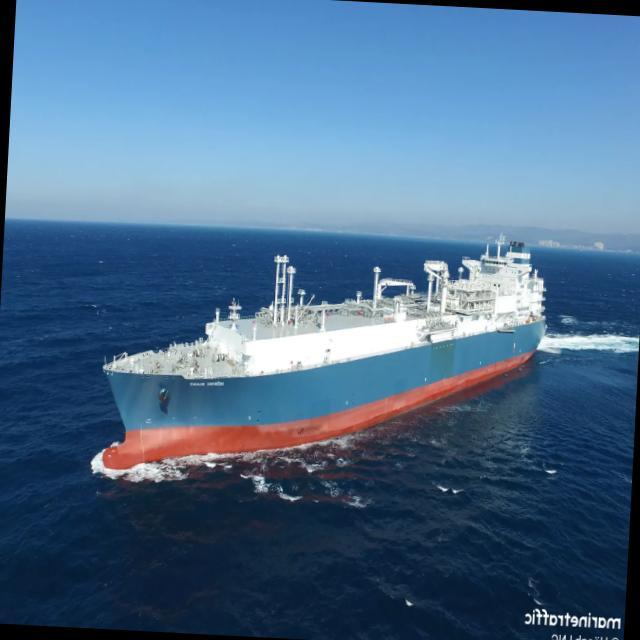Tanker: (103, 237, 546, 470)
